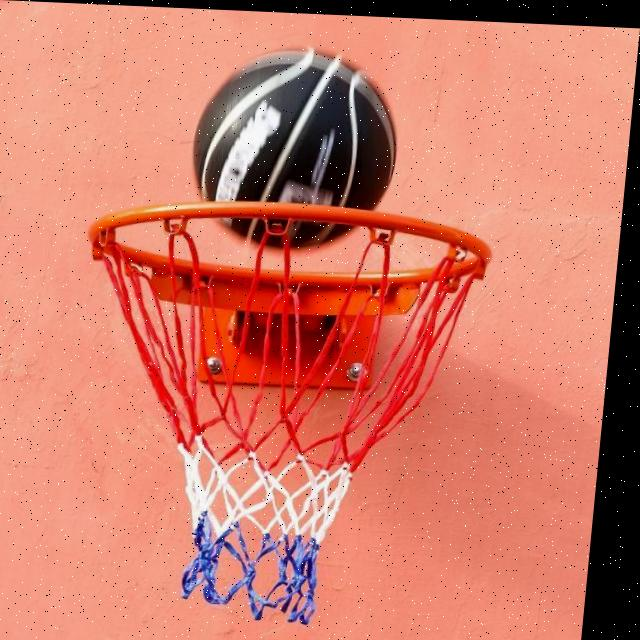Basketball: (185, 47, 407, 253)
